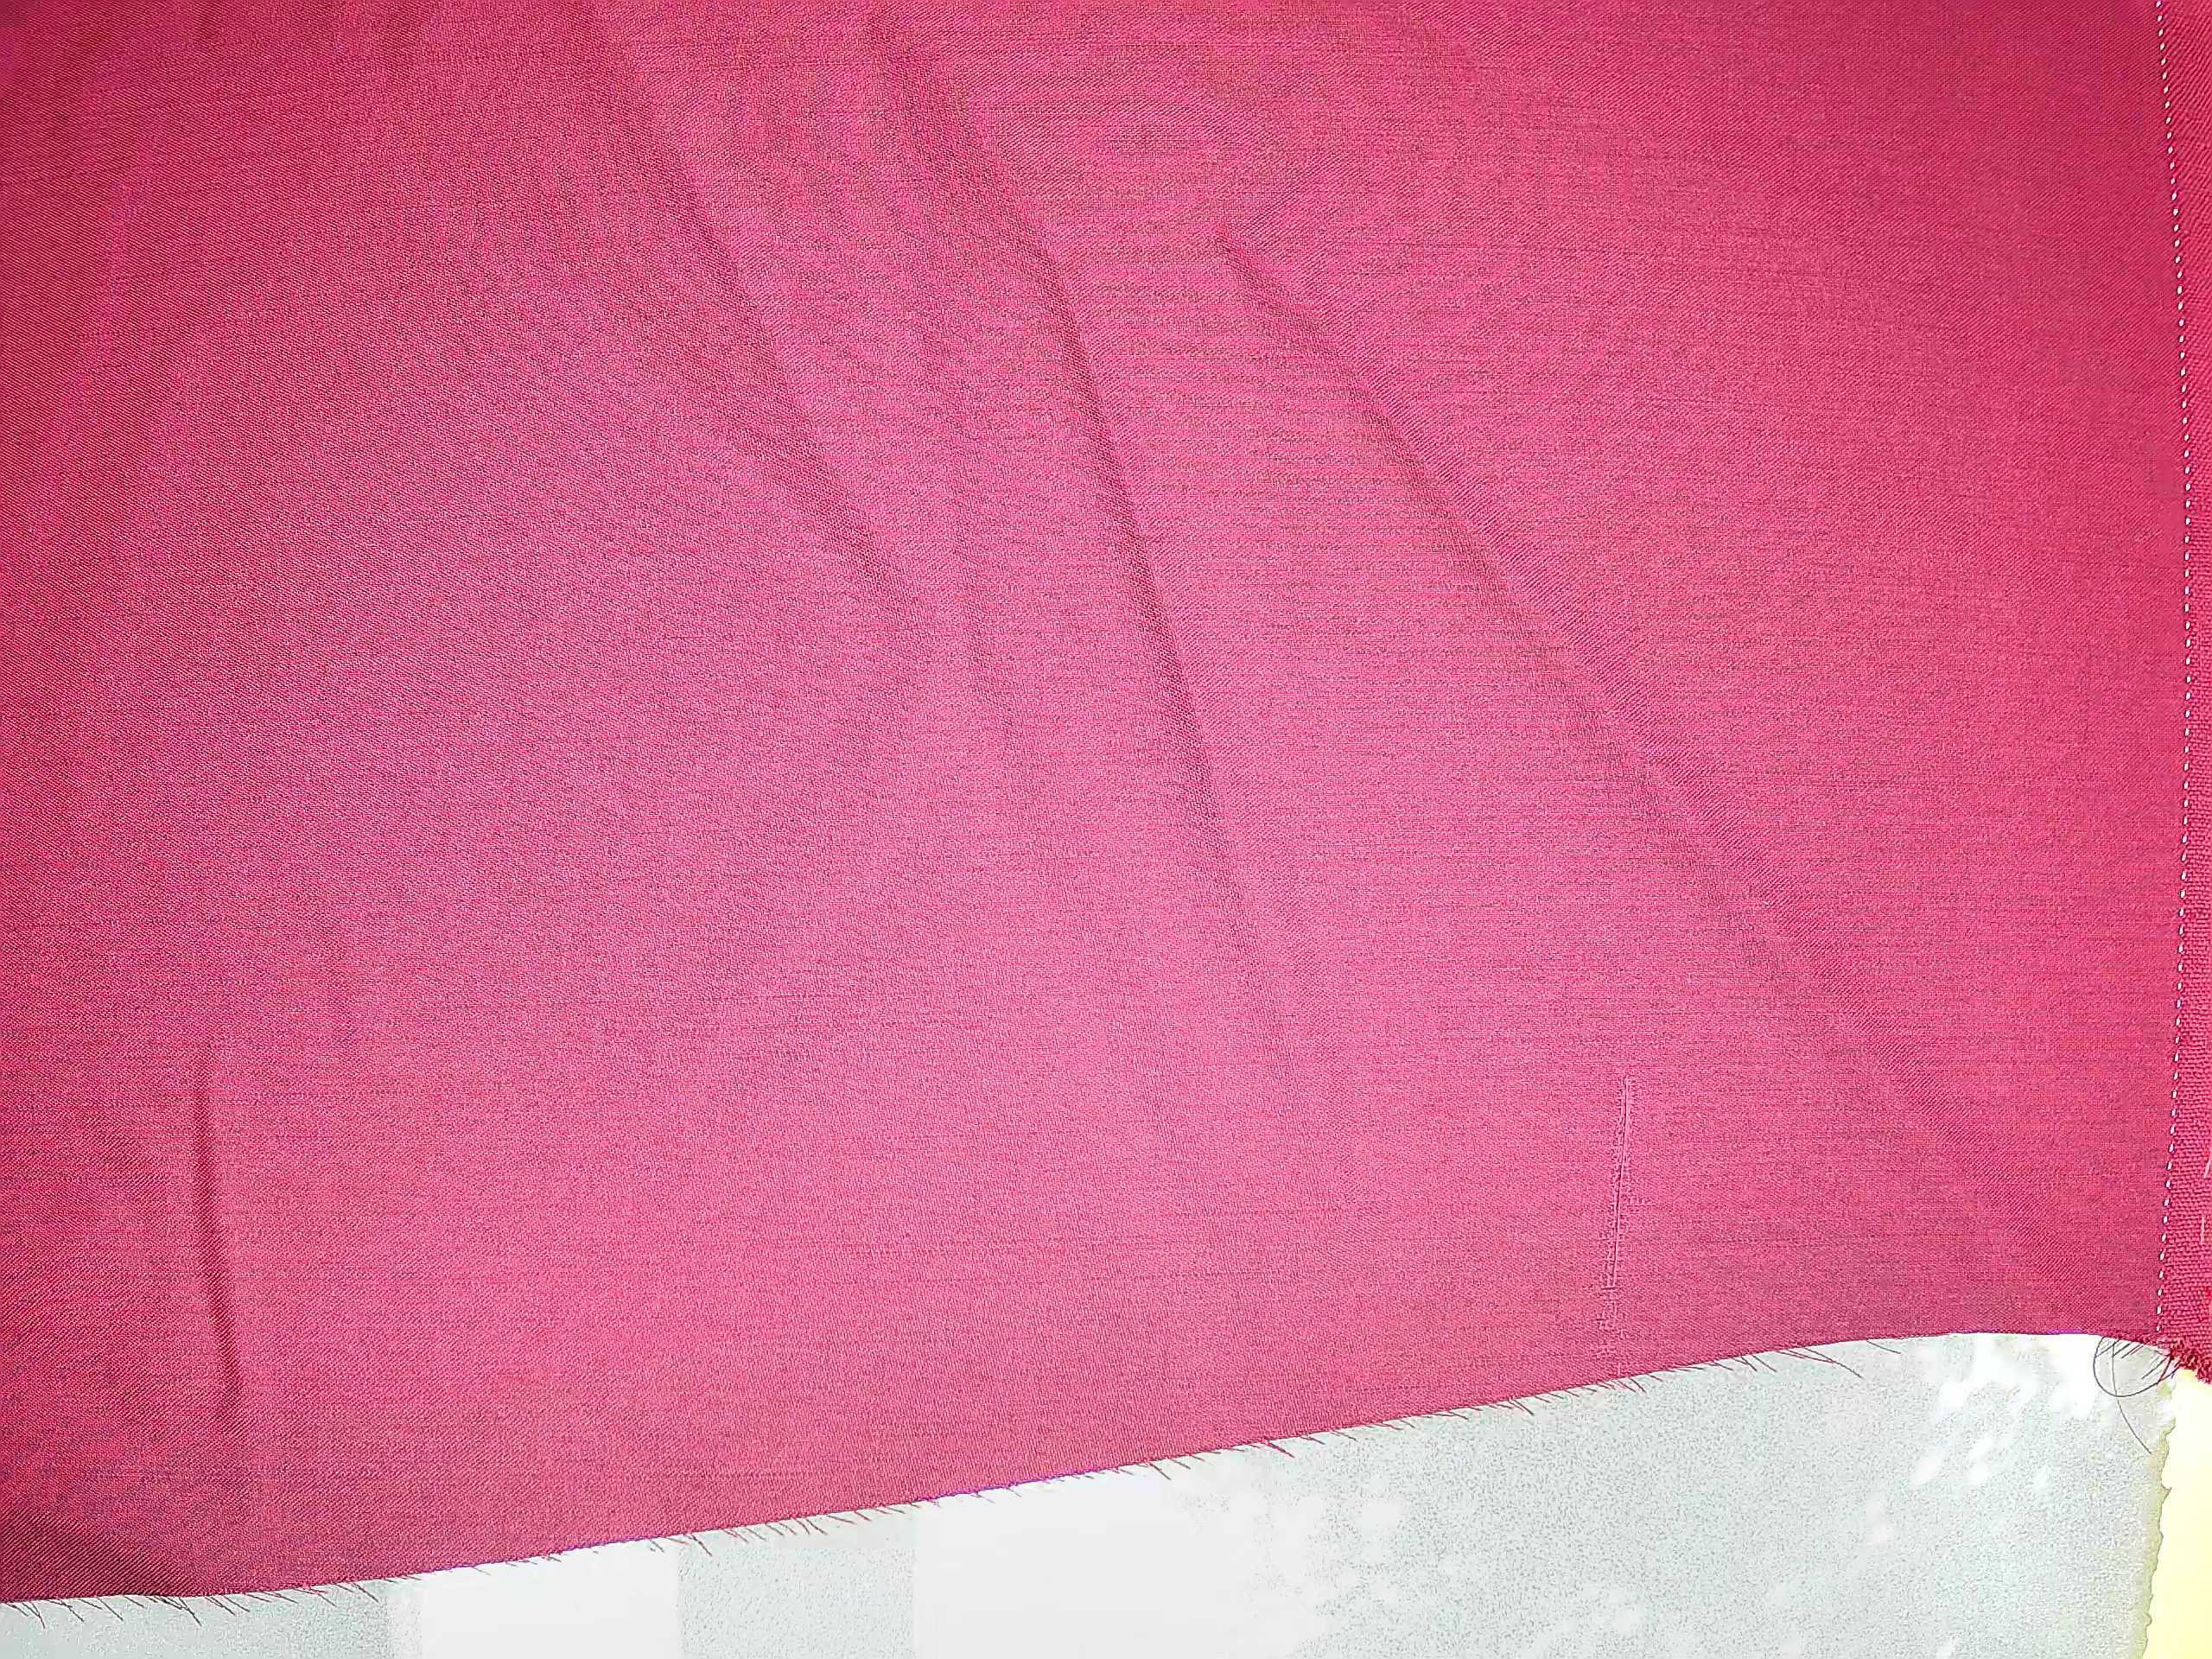jumps: (1587, 1049, 1651, 1359)
